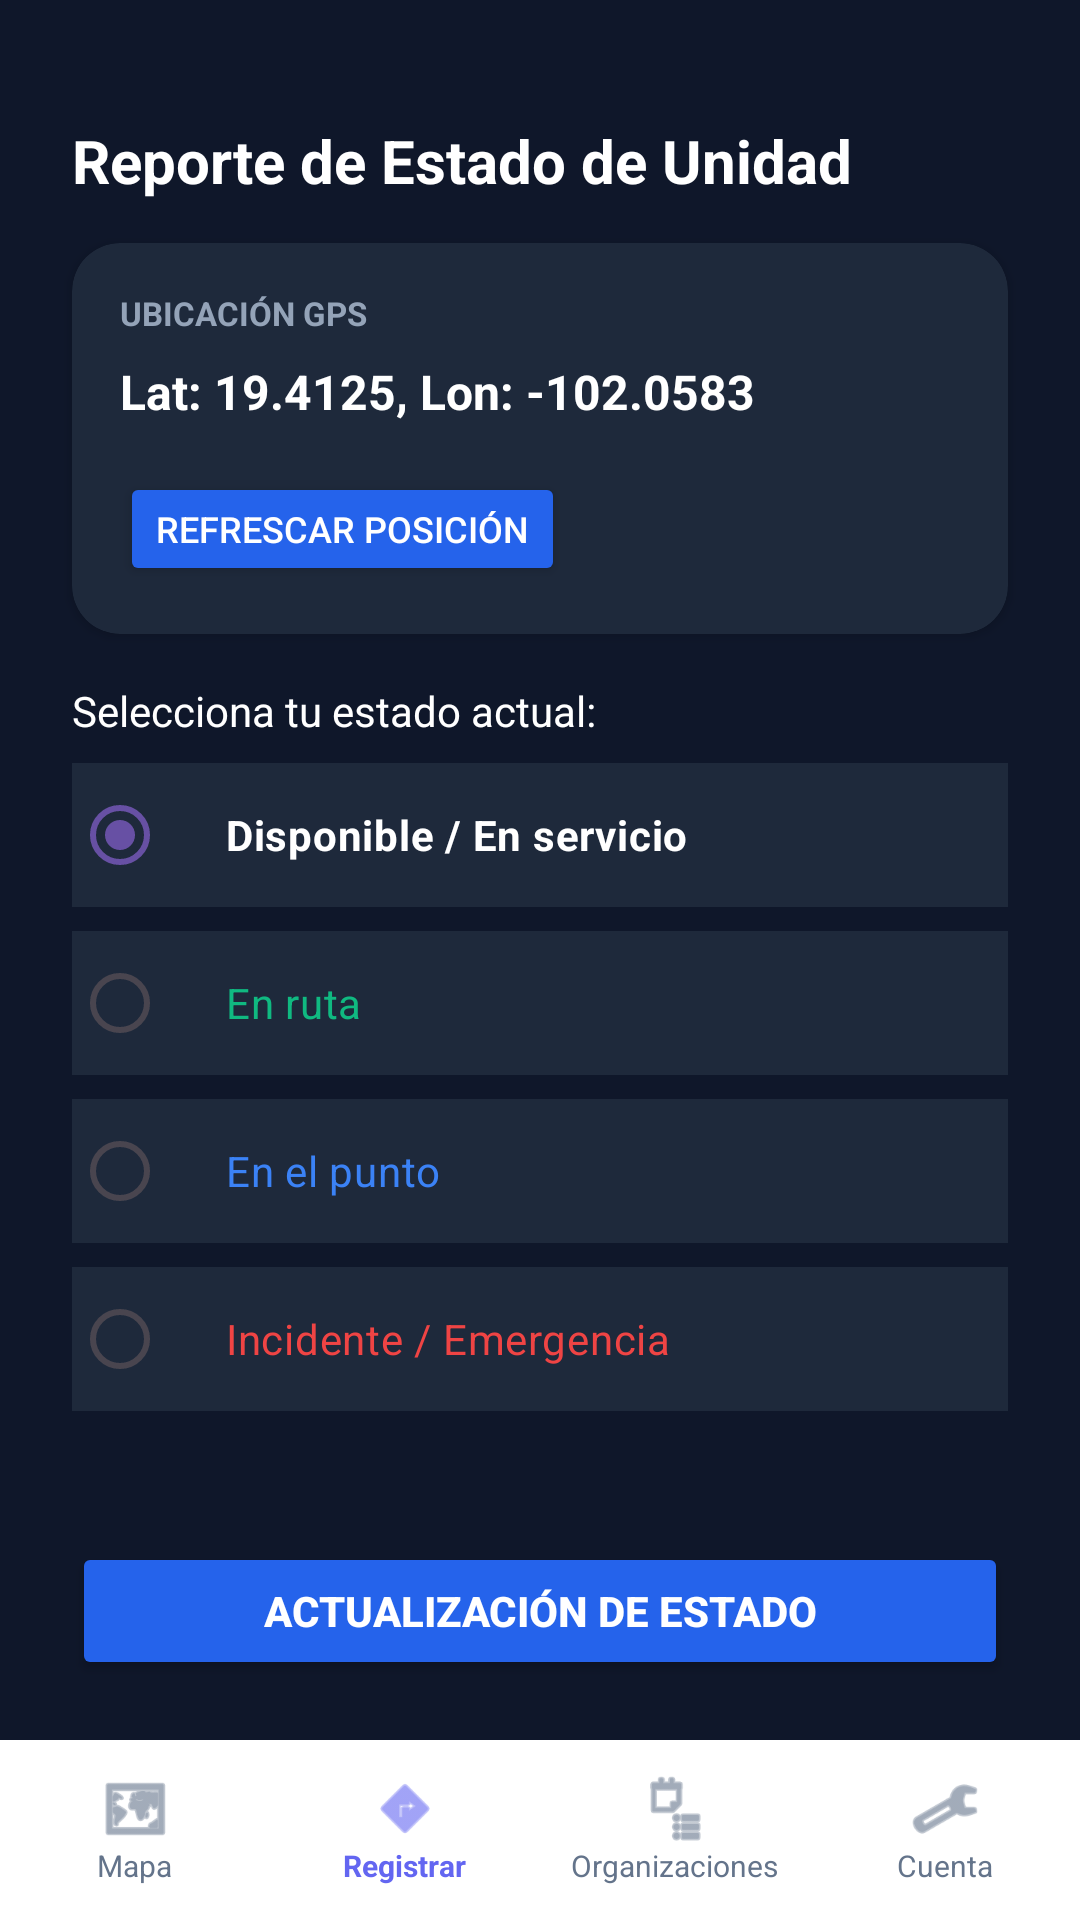

Named icons in this screenshot (1080px x 1920px) and their centers, [x,y]:
agenda: [675,1809]
directions: [405,1808]
manage: [945,1809]
